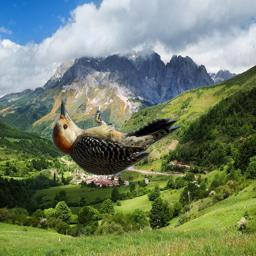Woodpecker: (41, 95, 187, 178)
